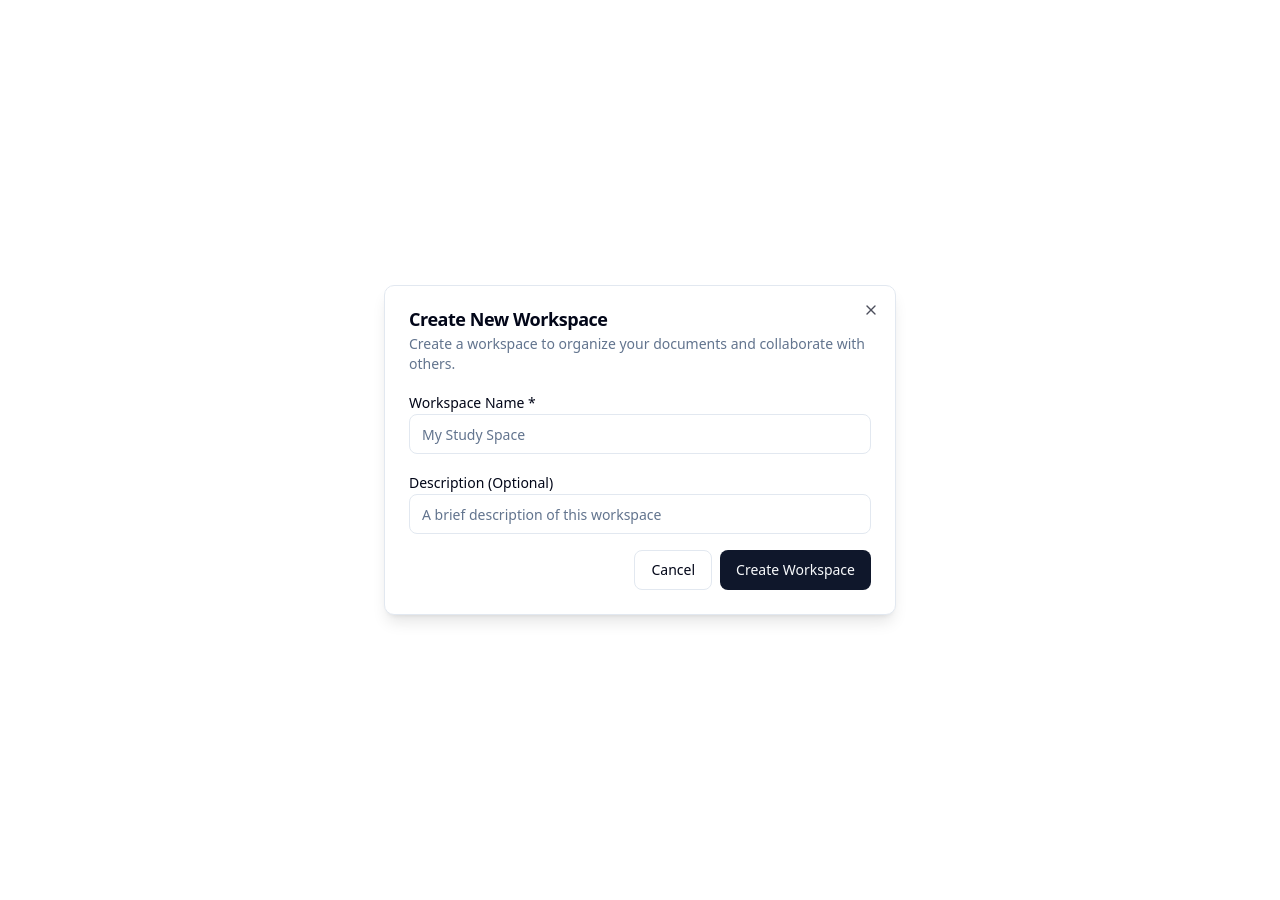
Test: CreateWorkspaceModal › validates workspace name (min 3 chars)
Step 1. Type "AB" into the field labelled "Workspace Name *" → (640, 434), box [409, 414, 871, 454]
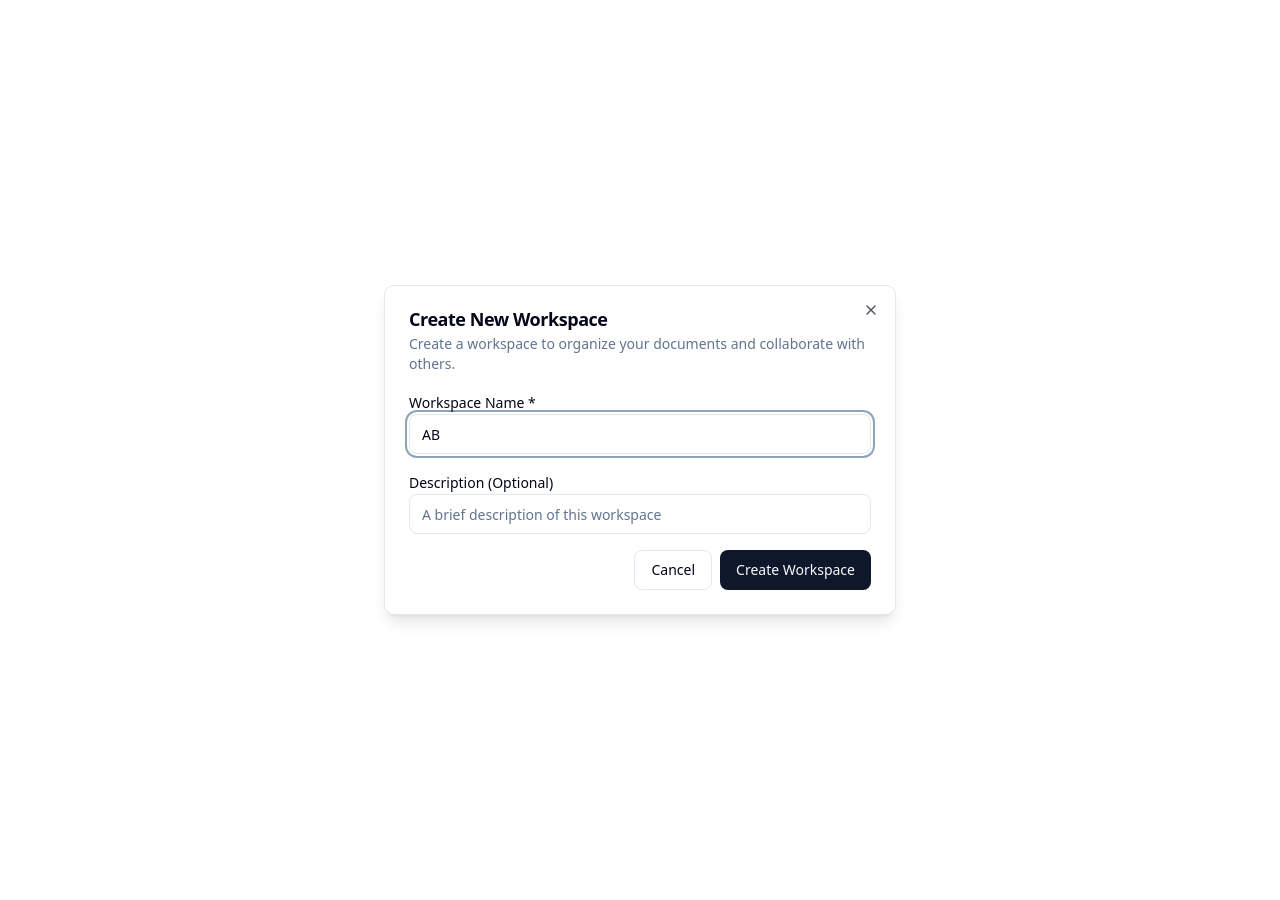
Step 2. Click the button "Create Workspace" → (796, 570), box [720, 550, 871, 590]
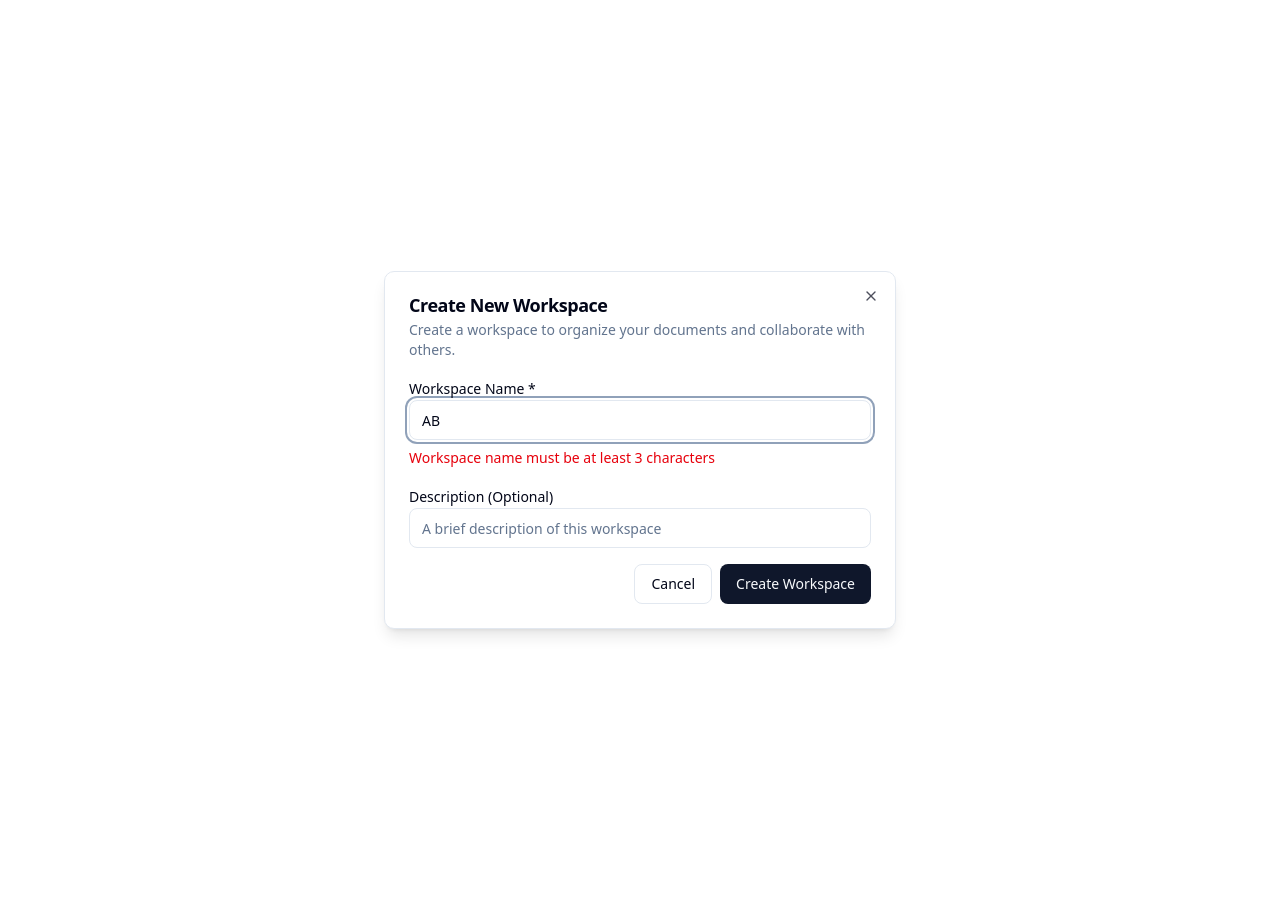
Now the text "Workspace name must be at least 3 characters" is shown, box [409, 448, 715, 467]
